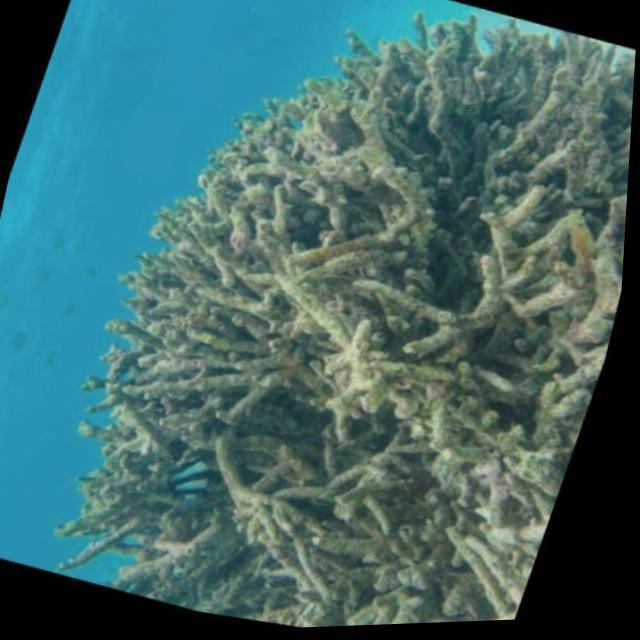Dead Coral: (79, 23, 640, 640)
